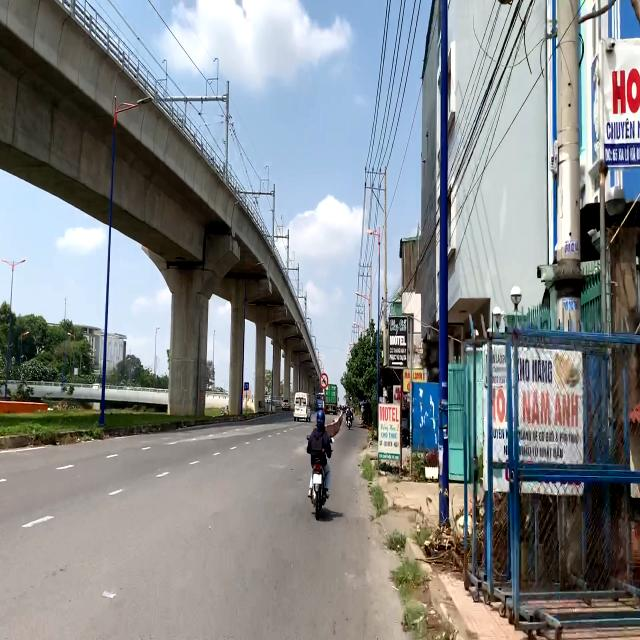P.104: (320, 372, 328, 389)
R.409: (244, 382, 249, 391)
